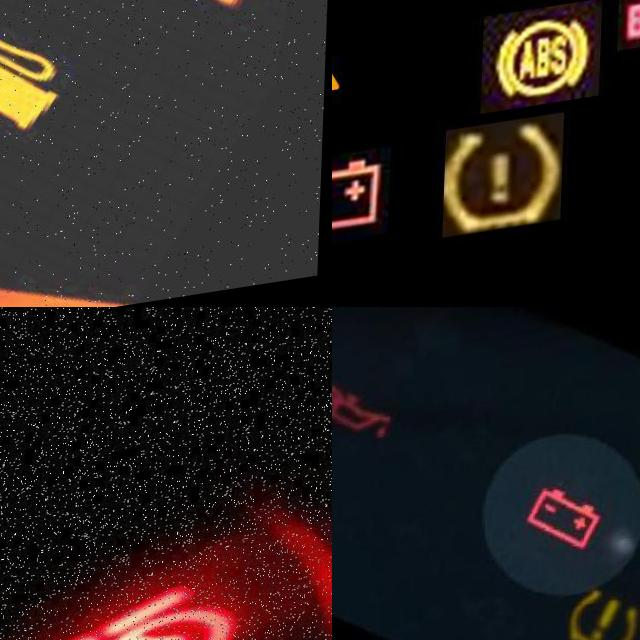Electronic Power Steering: (40, 526, 301, 640)
